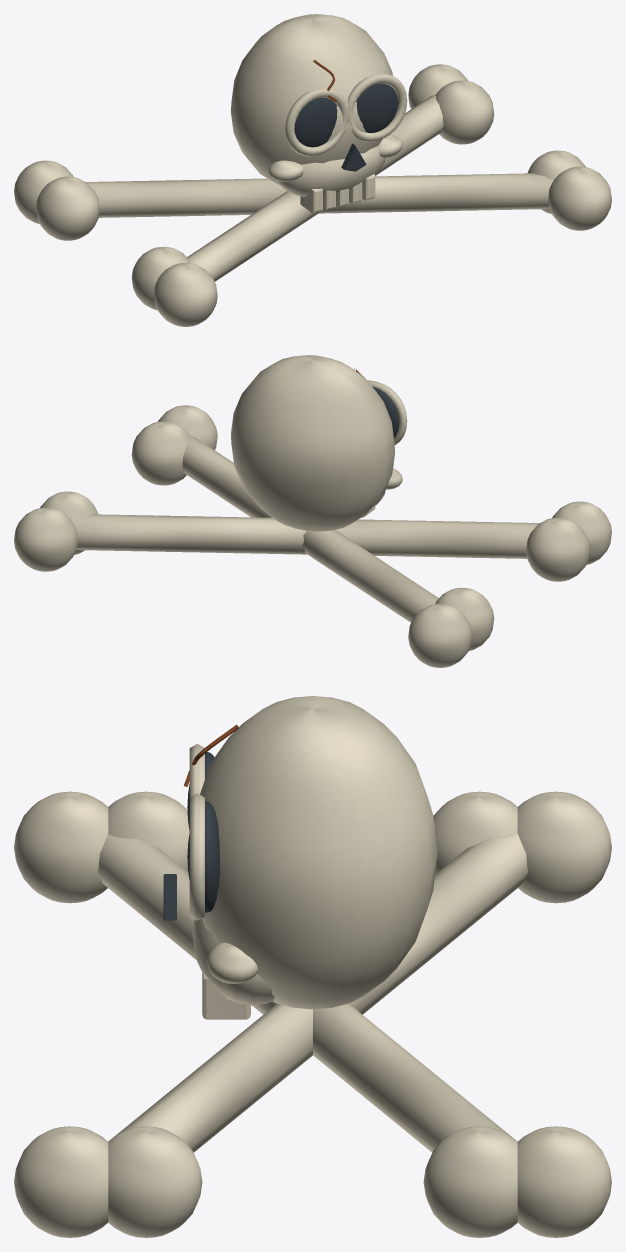
Rendered from hollowwick-halloween-crossed-bones-relic-dcb194b4__21643.glb.
3 renders of one model, top to bottom at view 1: azimuth 30°, elevation 25°; view 2: azimuth 150°, elevation 25°; view 3: azimuth 270°, elevation 25°, orthographic. The views are drawn at different scales.
Visible parts, largest first — view 1: crossed-bones-relic; view 2: crossed-bones-relic; view 3: crossed-bones-relic.
Boxes of the visible parts, x1,y1,x2,y2 form: crossed-bones-relic: [14, 14, 611, 326]; crossed-bones-relic: [14, 355, 611, 667]; crossed-bones-relic: [14, 696, 611, 1237].
Size of the model in its own units: 0.662 by 0.2886 by 0.438.
Materials: 3 (2 with a texture image).
